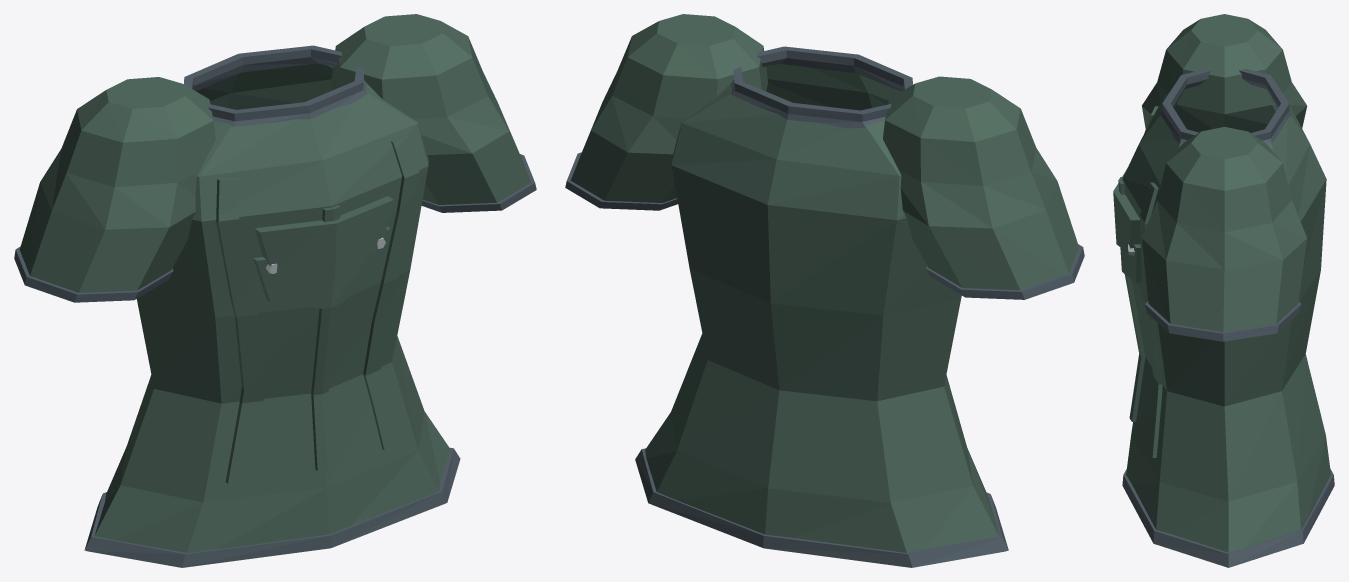
File: studded_chest-female-scaledHide.glb
The picture shows the model from 3 angles, left to right: view 1: azimuth 30°, elevation 25°; view 2: azimuth 150°, elevation 25°; view 3: azimuth 270°, elevation 25°; orthographic projection. The views are drawn at different scales.
Parts seen in each view (by area): view 1: studded tunic torso, studded upper sleeve -1, studded upper sleeve 1, Sewn tunic side facing -1, Lapped hide reinforcement studded tunic torso 0, Bound tunic hem, Fitted tunic neckline, Sewn tunic side facing 1, Lapped hide reinforcement studded tunic torso 1, Reinforced tunic closure, Sleeve cuff binding -1, Sleeve cuff binding 1; view 2: studded tunic torso, studded upper sleeve -1, studded upper sleeve 1, Bound tunic hem, Fitted tunic neckline, Sleeve cuff binding -1, Sleeve cuff binding 1; view 3: studded tunic torso, studded upper sleeve 1, studded upper sleeve -1, Bound tunic hem, Fitted tunic neckline, Sewn tunic side facing 1, Sleeve cuff binding 1, Lapped hide reinforcement studded tunic torso 0, Reinforced tunic closure, Lapped hide reinforcement studded tunic torso 1.
Part boxes in pixels (x1=…): studded tunic torso: x1=87, y1=63, x2=450, y2=567; studded upper sleeve -1: x1=19, y1=77, x2=215, y2=292; studded upper sleeve 1: x1=331, y1=14, x2=530, y2=204; Sewn tunic side facing -1: x1=216, y1=178, x2=264, y2=483; Lapped hide reinforcement studded tunic torso 0: x1=254, y1=196, x2=393, y2=281; Bound tunic hem: x1=84, y1=447, x2=460, y2=567; Fitted tunic neckline: x1=184, y1=45, x2=366, y2=126; Sewn tunic side facing 1: x1=363, y1=133, x2=419, y2=450; Lapped hide reinforcement studded tunic torso 1: x1=253, y1=226, x2=390, y2=309; Reinforced tunic closure: x1=311, y1=205, x2=340, y2=470; Sleeve cuff binding -1: x1=14, y1=246, x2=173, y2=302; Sleeve cuff binding 1: x1=421, y1=154, x2=536, y2=212; studded tunic torso: x1=645, y1=64, x2=1006, y2=567; studded upper sleeve -1: x1=883, y1=76, x2=1078, y2=290; studded upper sleeve 1: x1=570, y1=14, x2=767, y2=202; Bound tunic hem: x1=635, y1=448, x2=1008, y2=567; Fitted tunic neckline: x1=731, y1=46, x2=912, y2=128; Sleeve cuff binding -1: x1=926, y1=244, x2=1084, y2=299; Sleeve cuff binding 1: x1=565, y1=152, x2=678, y2=210; studded tunic torso: x1=1122, y1=92, x2=1330, y2=567; studded upper sleeve 1: x1=1141, y1=126, x2=1307, y2=332; studded upper sleeve -1: x1=1142, y1=14, x2=1306, y2=132; Bound tunic hem: x1=1122, y1=469, x2=1334, y2=567; Fitted tunic neckline: x1=1160, y1=69, x2=1290, y2=143; Sewn tunic side facing 1: x1=1140, y1=182, x2=1162, y2=457; Sleeve cuff binding 1: x1=1145, y1=301, x2=1301, y2=341; Lapped hide reinforcement studded tunic torso 0: x1=1113, y1=168, x2=1140, y2=253; Reinforced tunic closure: x1=1118, y1=177, x2=1145, y2=421; Lapped hide reinforcement studded tunic torso 1: x1=1120, y1=244, x2=1141, y2=282.
Size of the model in its own units: 3.25 by 2.76 by 1.39.
